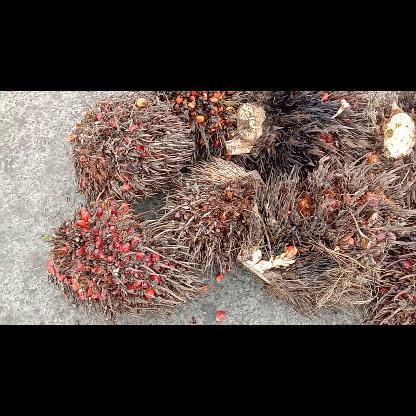Terlalu masak: (237, 155, 415, 315), (45, 193, 203, 318), (226, 91, 376, 179), (70, 94, 192, 202), (152, 158, 264, 270), (156, 91, 248, 159), (369, 210, 415, 324)
